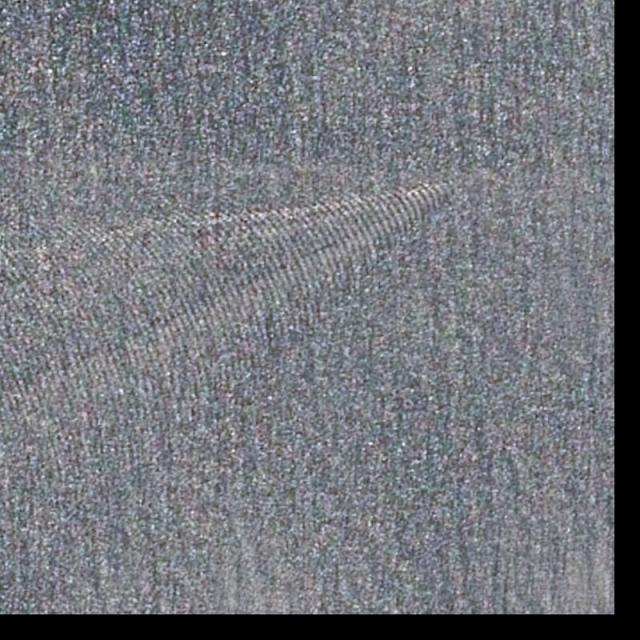ship: (504, 161, 514, 169)
